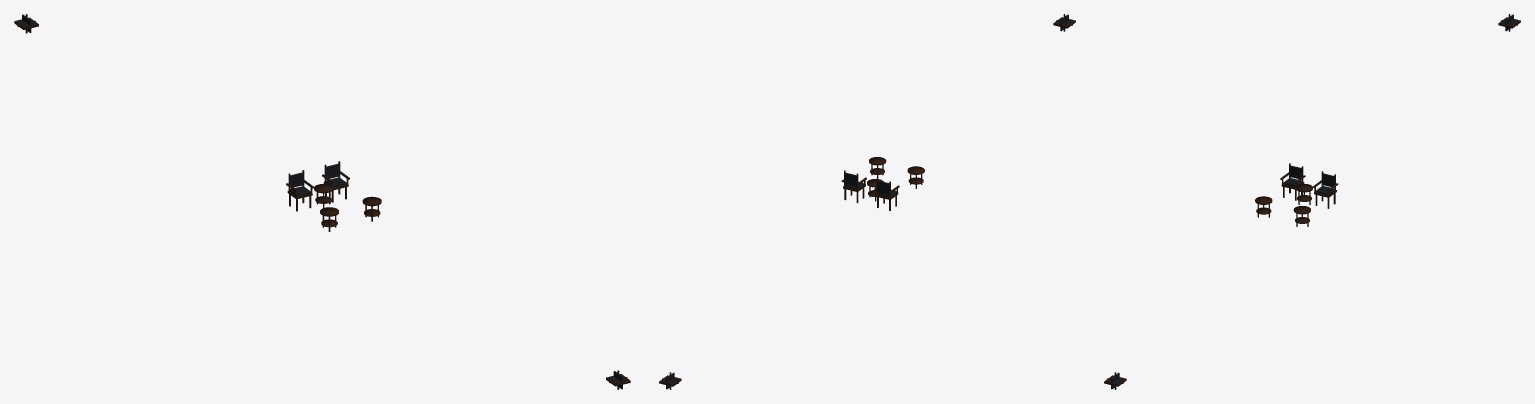
Rendered from zaoyuan_guest.glb.
3 renders of one model, left to right at view 1: azimuth 30°, elevation 25°; view 2: azimuth 150°, elevation 25°; view 3: azimuth 330°, elevation 25°, orthographic. The views are drawn at different scales.
Parts seen in each view (by area): view 1: round_guest-furniture_review_20261020_bed_aged_lacquer, guest_guest-furniture_chair_upholstery, guest_guest-furniture_review_20261020_bed_aged_lacquer; view 2: guest_guest-furniture_review_20261020_bed_aged_lacquer, round_guest-furniture_review_20261020_bed_aged_lacquer, guest_guest-furniture_chair_upholstery; view 3: guest_guest-furniture_chair_upholstery, guest_guest-furniture_review_20261020_bed_aged_lacquer, round_guest-furniture_review_20261020_bed_aged_lacquer.
Part boxes in pixels (left/top/right/bottom): round_guest-furniture_review_20261020_bed_aged_lacquer: left=314, top=184, right=381, bottom=231; guest_guest-furniture_chair_upholstery: left=17, top=14, right=627, bottom=389; guest_guest-furniture_review_20261020_bed_aged_lacquer: left=14, top=14, right=630, bottom=389; guest_guest-furniture_review_20261020_bed_aged_lacquer: left=659, top=14, right=1075, bottom=389; round_guest-furniture_review_20261020_bed_aged_lacquer: left=867, top=157, right=924, bottom=201; guest_guest-furniture_chair_upholstery: left=661, top=14, right=1073, bottom=389; guest_guest-furniture_chair_upholstery: left=1106, top=14, right=1518, bottom=389; guest_guest-furniture_review_20261020_bed_aged_lacquer: left=1104, top=14, right=1520, bottom=389; round_guest-furniture_review_20261020_bed_aged_lacquer: left=1255, top=184, right=1312, bottom=226.
Size of the model in its own units: 3.62 by 1.5 by 33.96.
2 materials, 2 textured.
